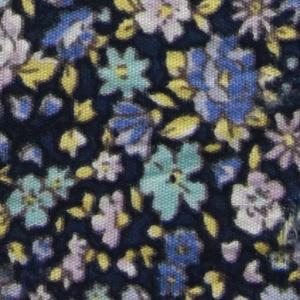Damage: (248, 73, 300, 118), (272, 189, 300, 272), (1, 246, 17, 300)
